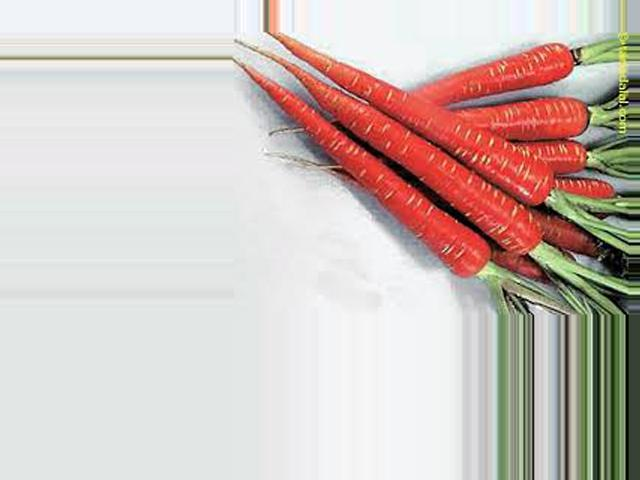carrot: (405, 33, 579, 112)
